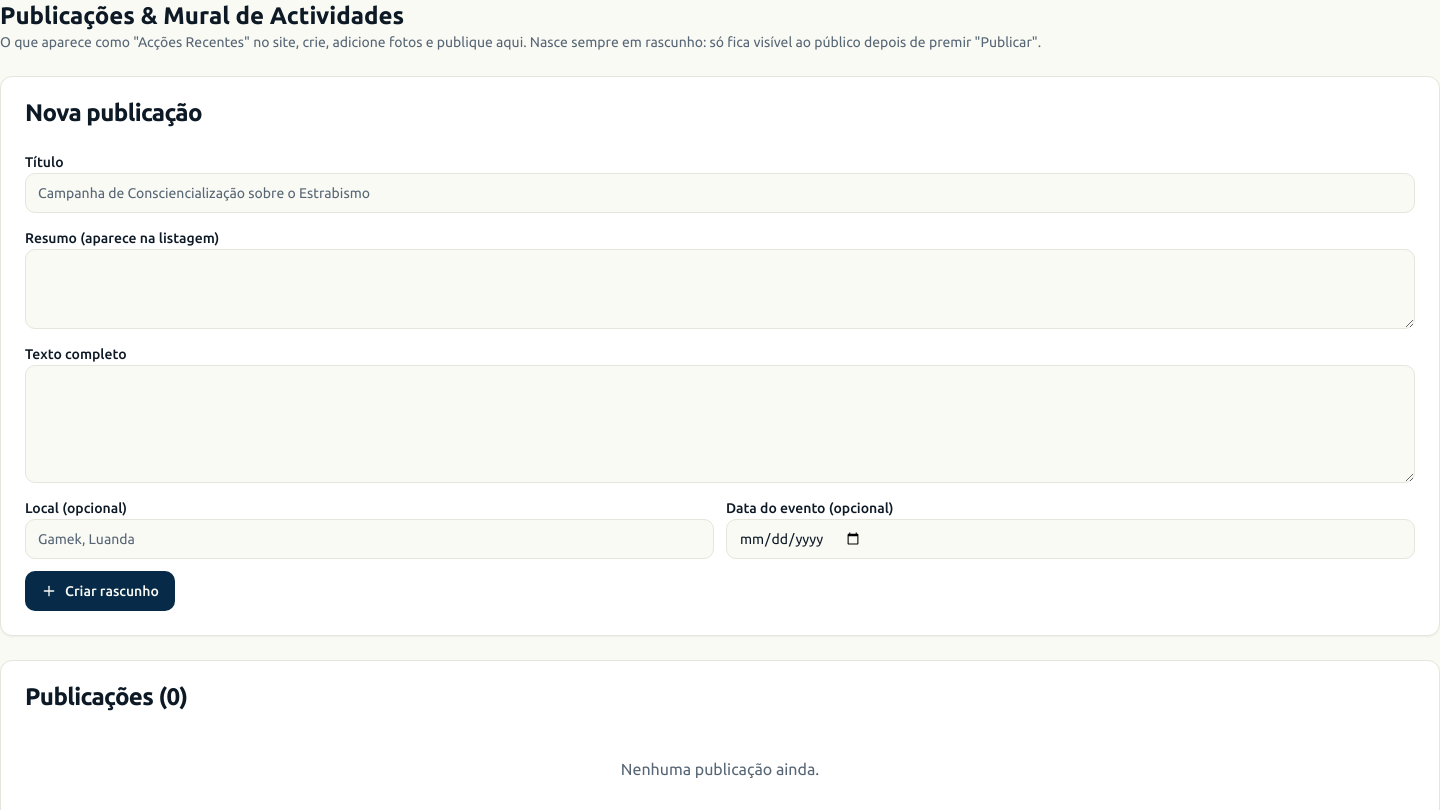
Test: AdminPublicacoes › só mostra sucesso depois de a API confirmar a criação, e abre o editor
In the field labelled "Título": (720, 193) [25, 173, 1415, 213], type "Rastreio em Luanda"
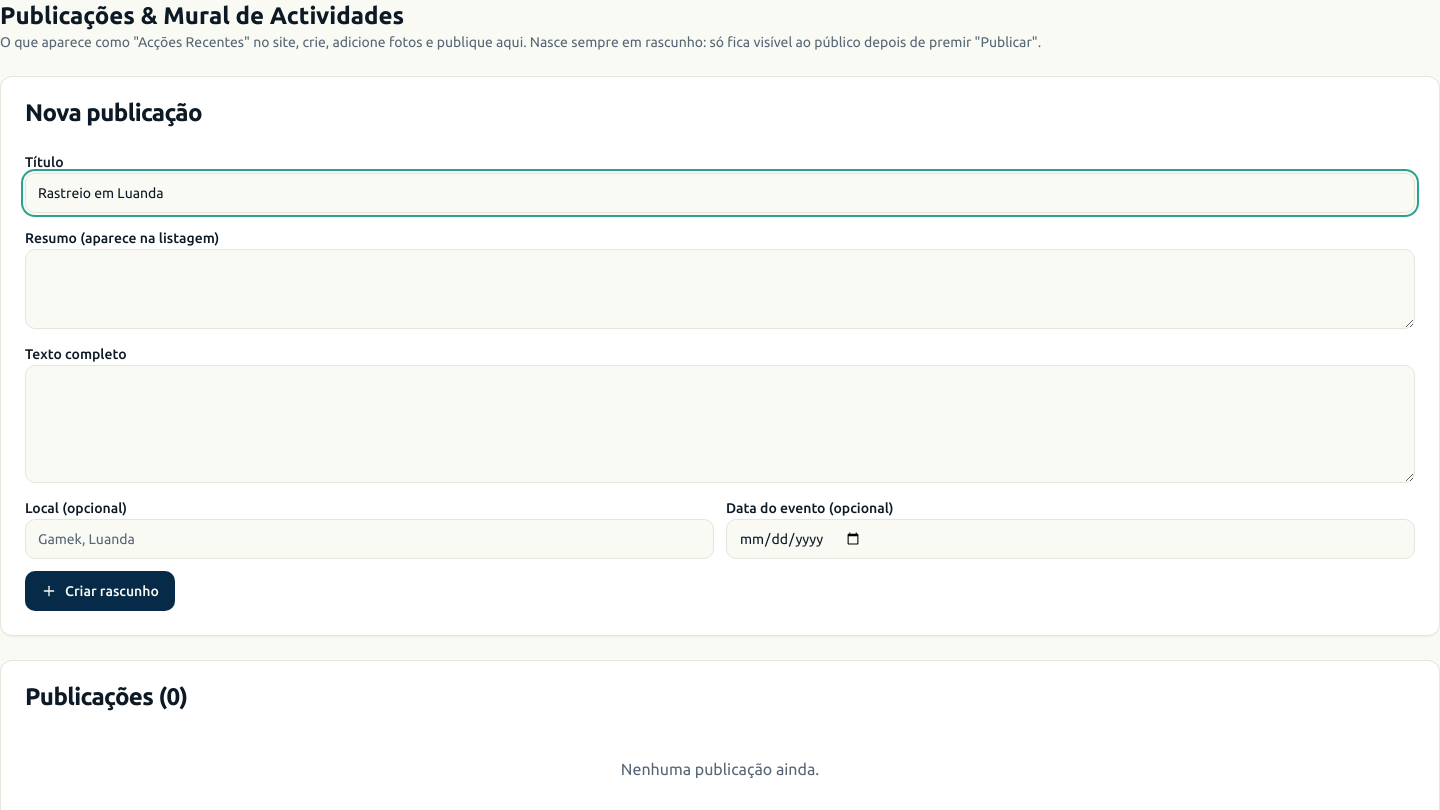
In the text box labelled "Resumo (aparece na listagem)": (720, 289) [25, 249, 1415, 329], type "resumo curto"
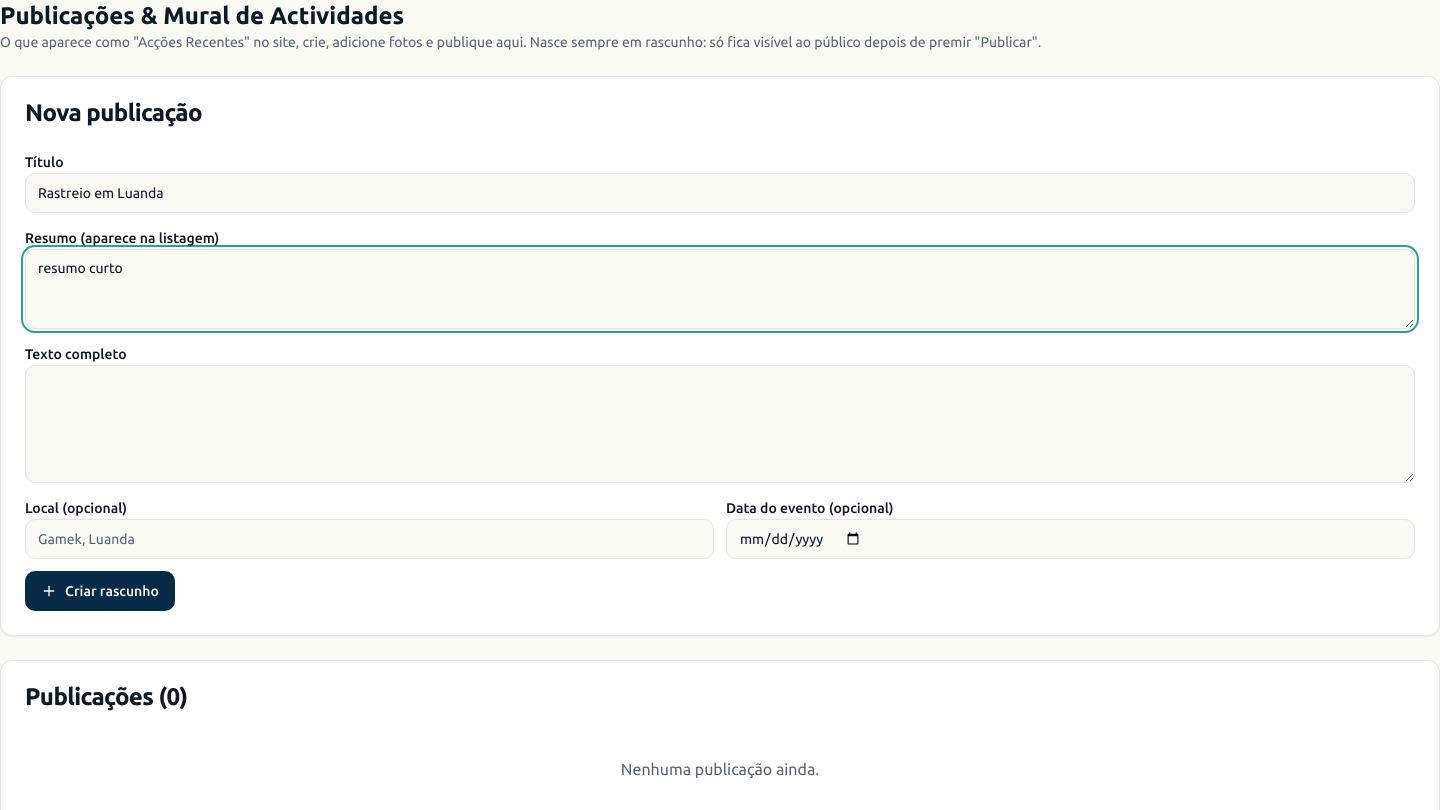
In the text box labelled "Texto completo": (720, 424) [25, 365, 1415, 483], type "texto completo do evento"
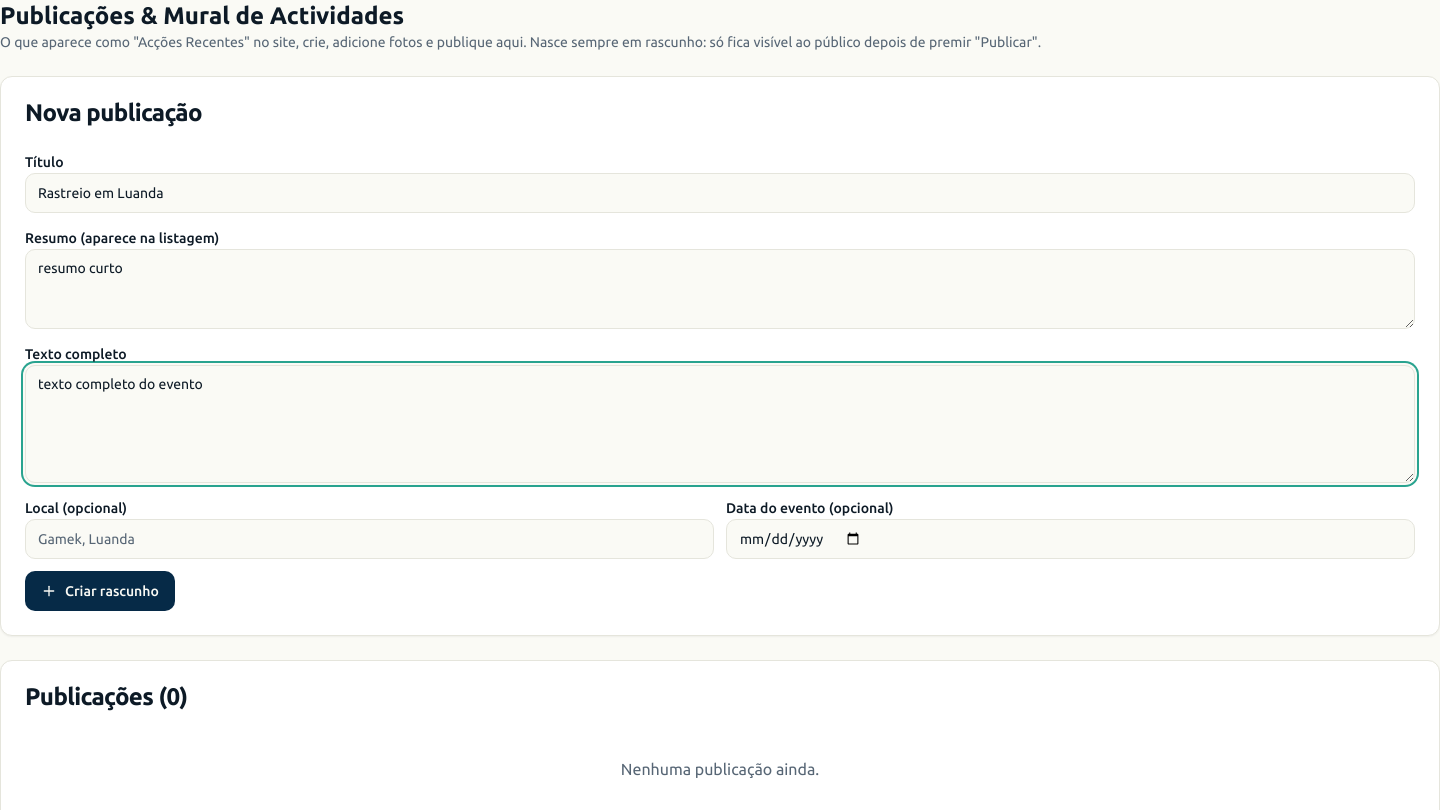
Click the button "Criar rascunho": (100, 591) [25, 571, 175, 611]
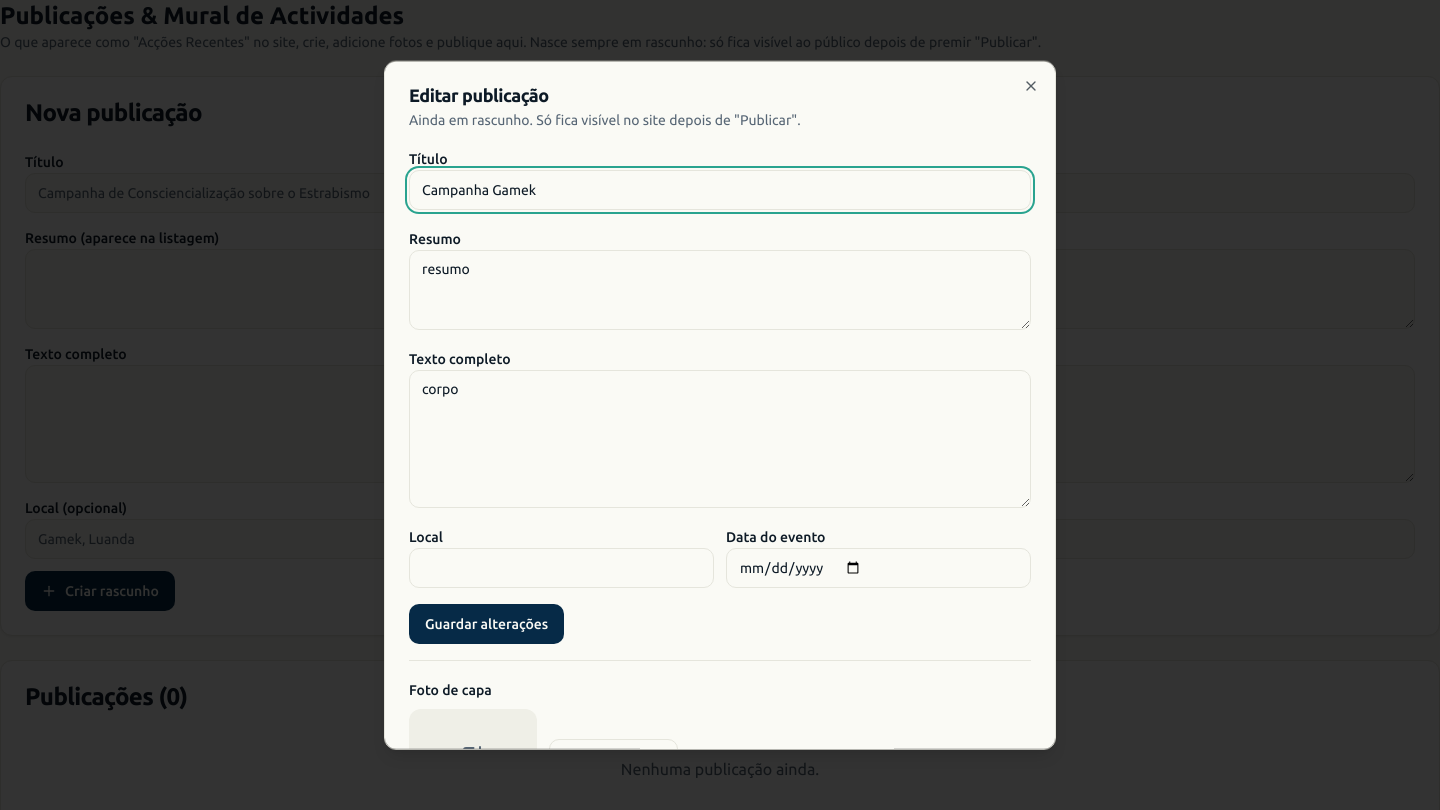
Result: the heading "Editar publicação" is shown at [409, 85, 549, 105]
